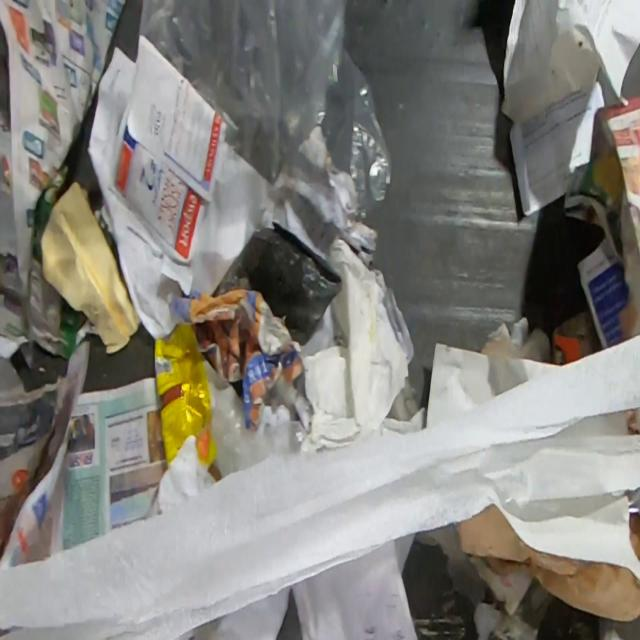soft_plastic: (137, 0, 392, 221), (454, 501, 640, 621), (213, 220, 343, 348), (204, 358, 317, 479), (152, 321, 218, 470)
